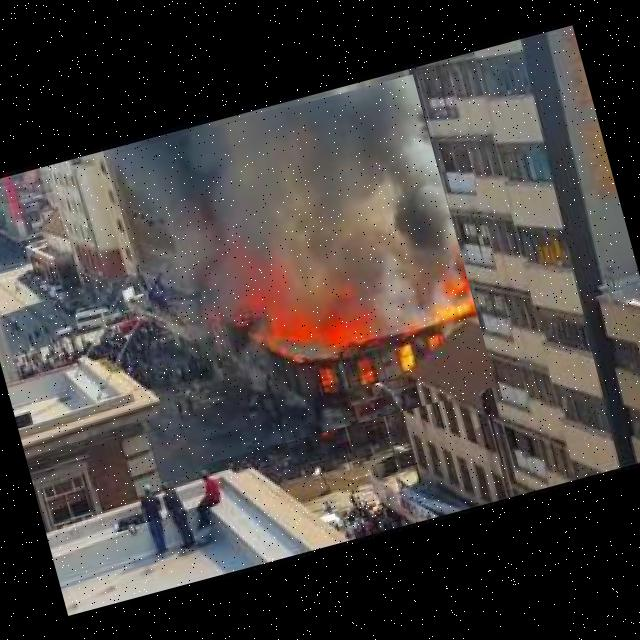fire: (110, 74, 496, 466)
